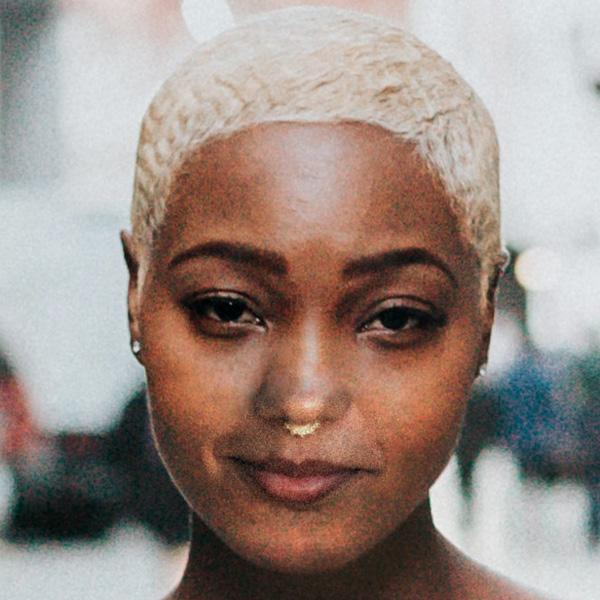Eyes: (346, 284, 449, 348), (170, 277, 276, 339)
